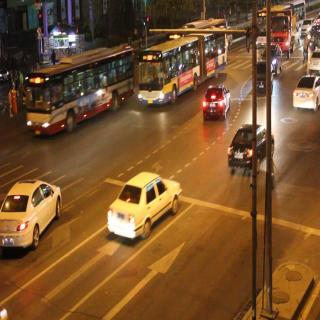BigCar: (20, 47, 134, 133), (147, 23, 226, 96), (178, 20, 228, 70), (265, 3, 302, 64)
Car: (104, 163, 182, 247), (1, 178, 64, 258), (222, 117, 276, 175), (194, 78, 233, 125), (297, 62, 320, 122), (250, 52, 274, 100)
